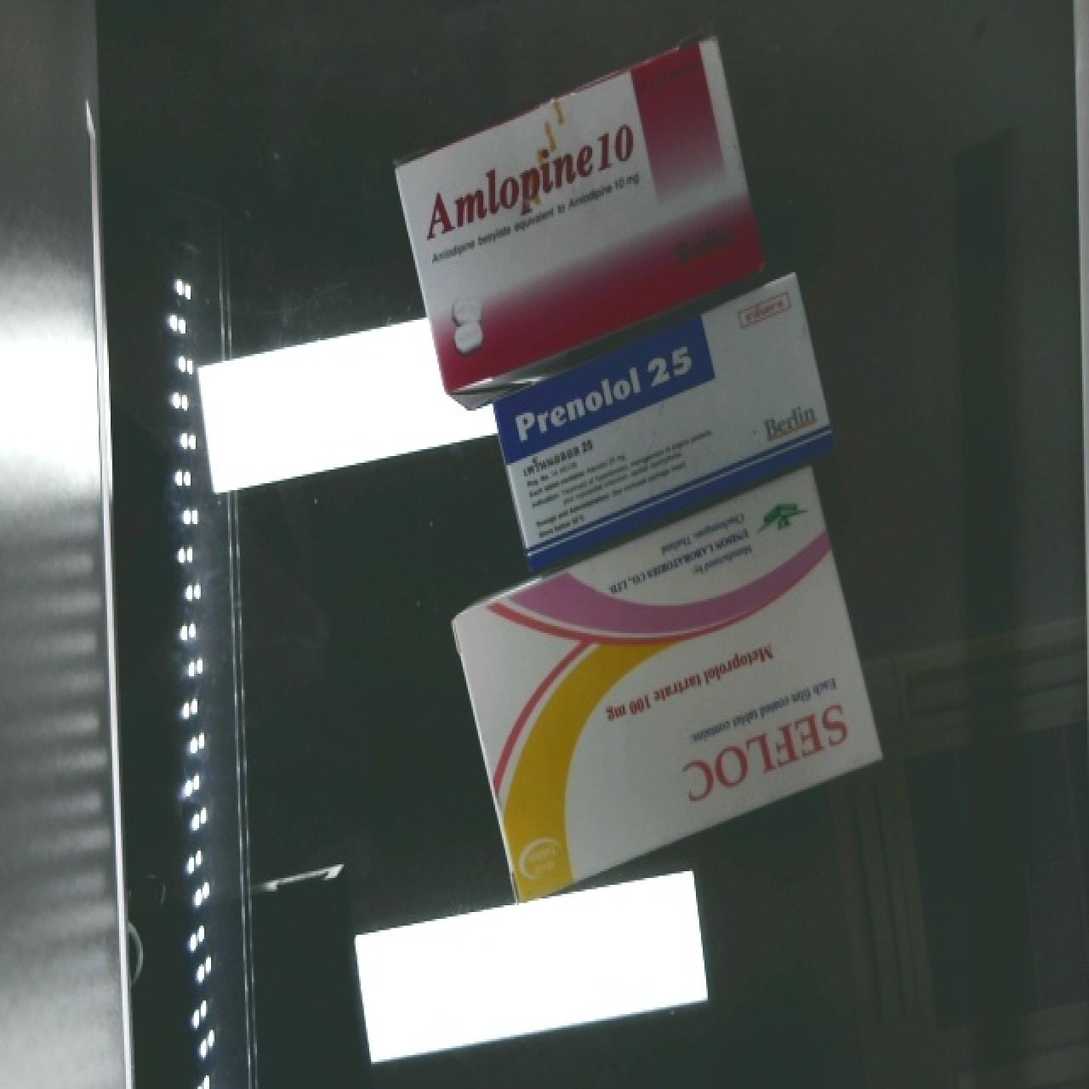medicine_label_obb: (395, 84, 665, 264), (642, 658, 888, 833), (494, 311, 723, 466)
